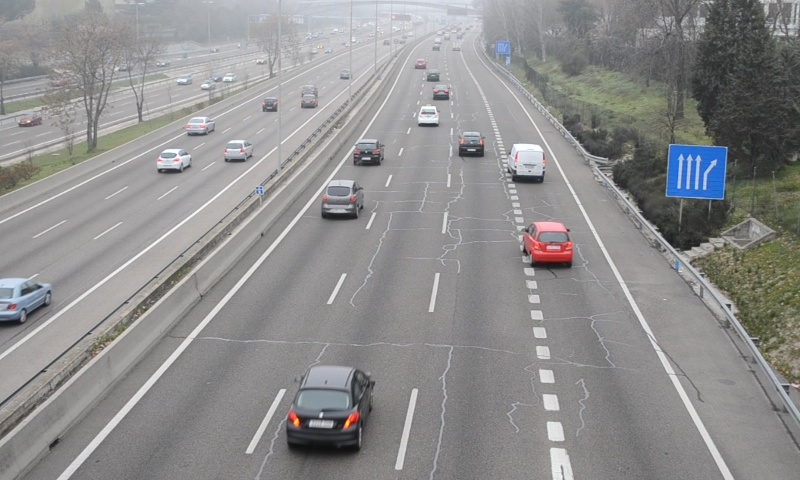car: (288, 366, 375, 450), (522, 220, 574, 264), (321, 180, 362, 217), (352, 139, 384, 163), (458, 131, 484, 158), (416, 103, 440, 126), (432, 84, 452, 99)
van: (508, 144, 546, 180)
